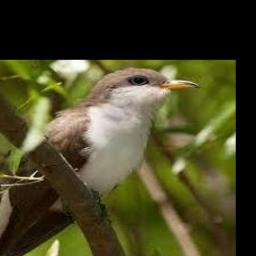Cuckoo: (0, 67, 201, 256)
